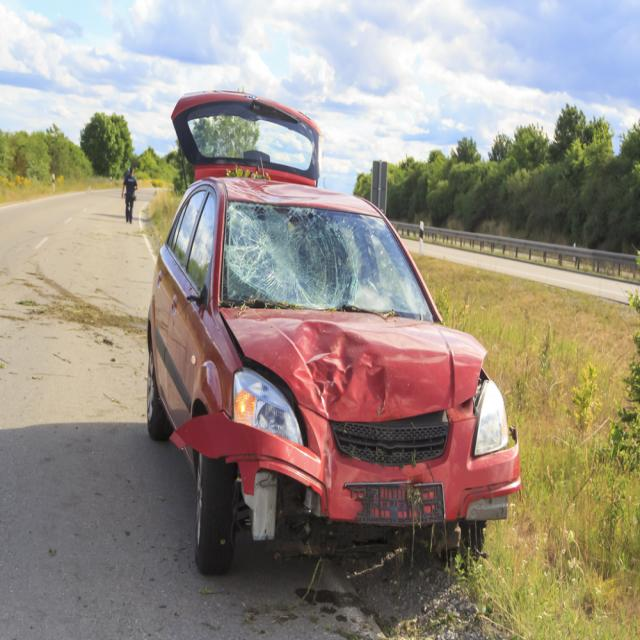dent: (289, 319, 389, 416), (228, 178, 344, 202)
glass shatter: (219, 202, 435, 322)
